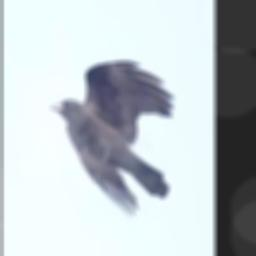Crow: (50, 59, 174, 215)
